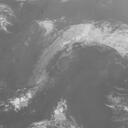cyclone: (39, 41, 93, 103)
